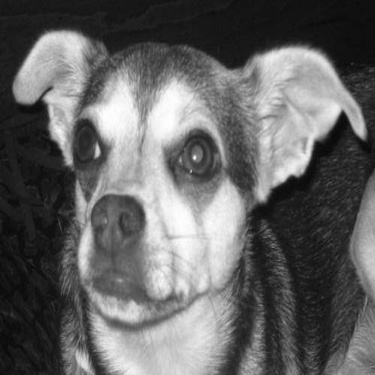dog: (6, 17, 369, 371)
